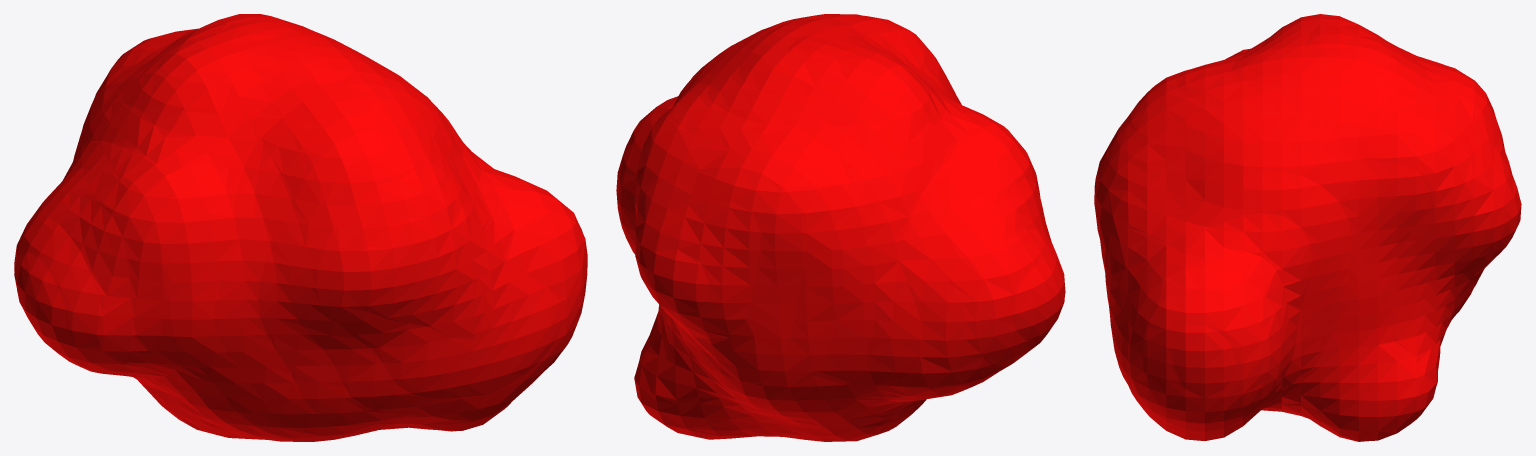
File: Ras_related_C3_botulinum_toxin_coarse.dae
3 renders of one model, left to right at view 1: azimuth 30°, elevation 25°; view 2: azimuth 150°, elevation 25°; view 3: azimuth 270°, elevation 25°, orthographic. The views are drawn at different scales.
Visible parts, largest first — view 1: Ras_related_C3_botulinum_toxin; view 2: Ras_related_C3_botulinum_toxin; view 3: Ras_related_C3_botulinum_toxin.
Part boxes in pixels (x1,y1,x2,y2): Ras_related_C3_botulinum_toxin: (14,14,587,441); Ras_related_C3_botulinum_toxin: (616,14,1065,441); Ras_related_C3_botulinum_toxin: (1094,14,1521,441).
Size of the model in its own units: 60.22 by 47.07 by 50.33.
